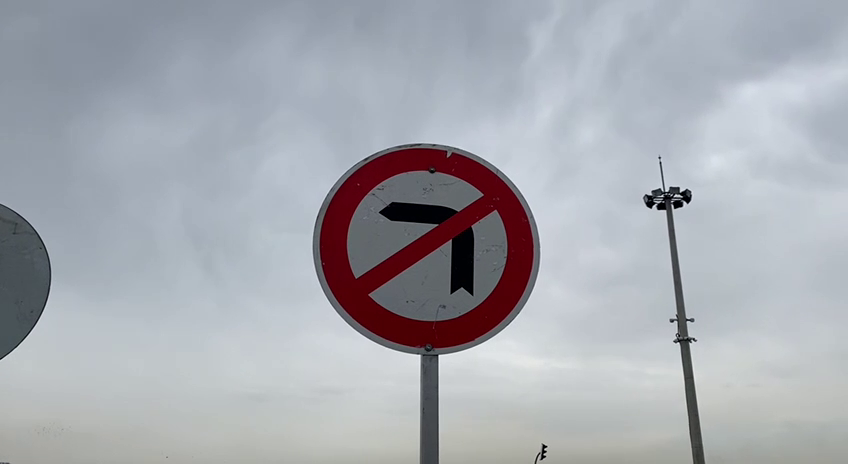noTurnLeft: (305, 137, 546, 360)
